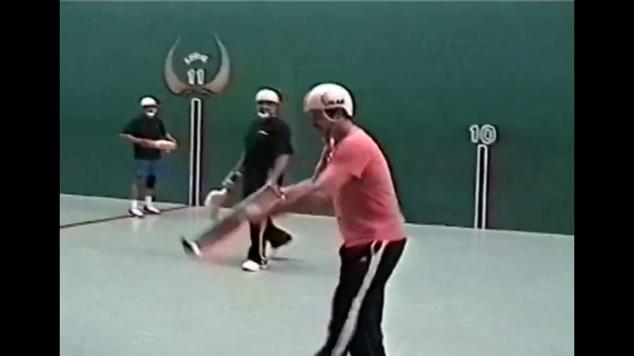walk: (227, 84, 295, 238), (110, 110, 176, 210)
